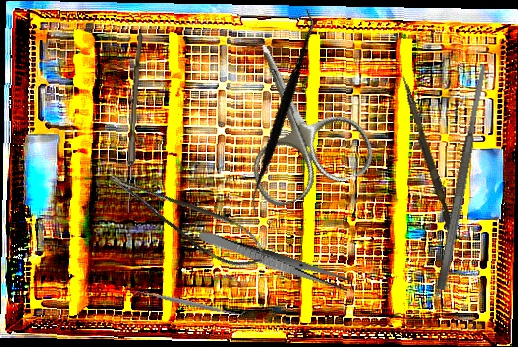Dressing Forceps: (196, 228, 354, 294)
Iris Scissors: (209, 22, 380, 212)
Micro Scissor: (105, 147, 274, 284)
Pusher: (395, 74, 458, 231)
Spatula Surgical: (203, 8, 358, 215), (434, 65, 491, 291), (132, 284, 247, 322)
Surgical Spoon: (124, 32, 143, 214)
